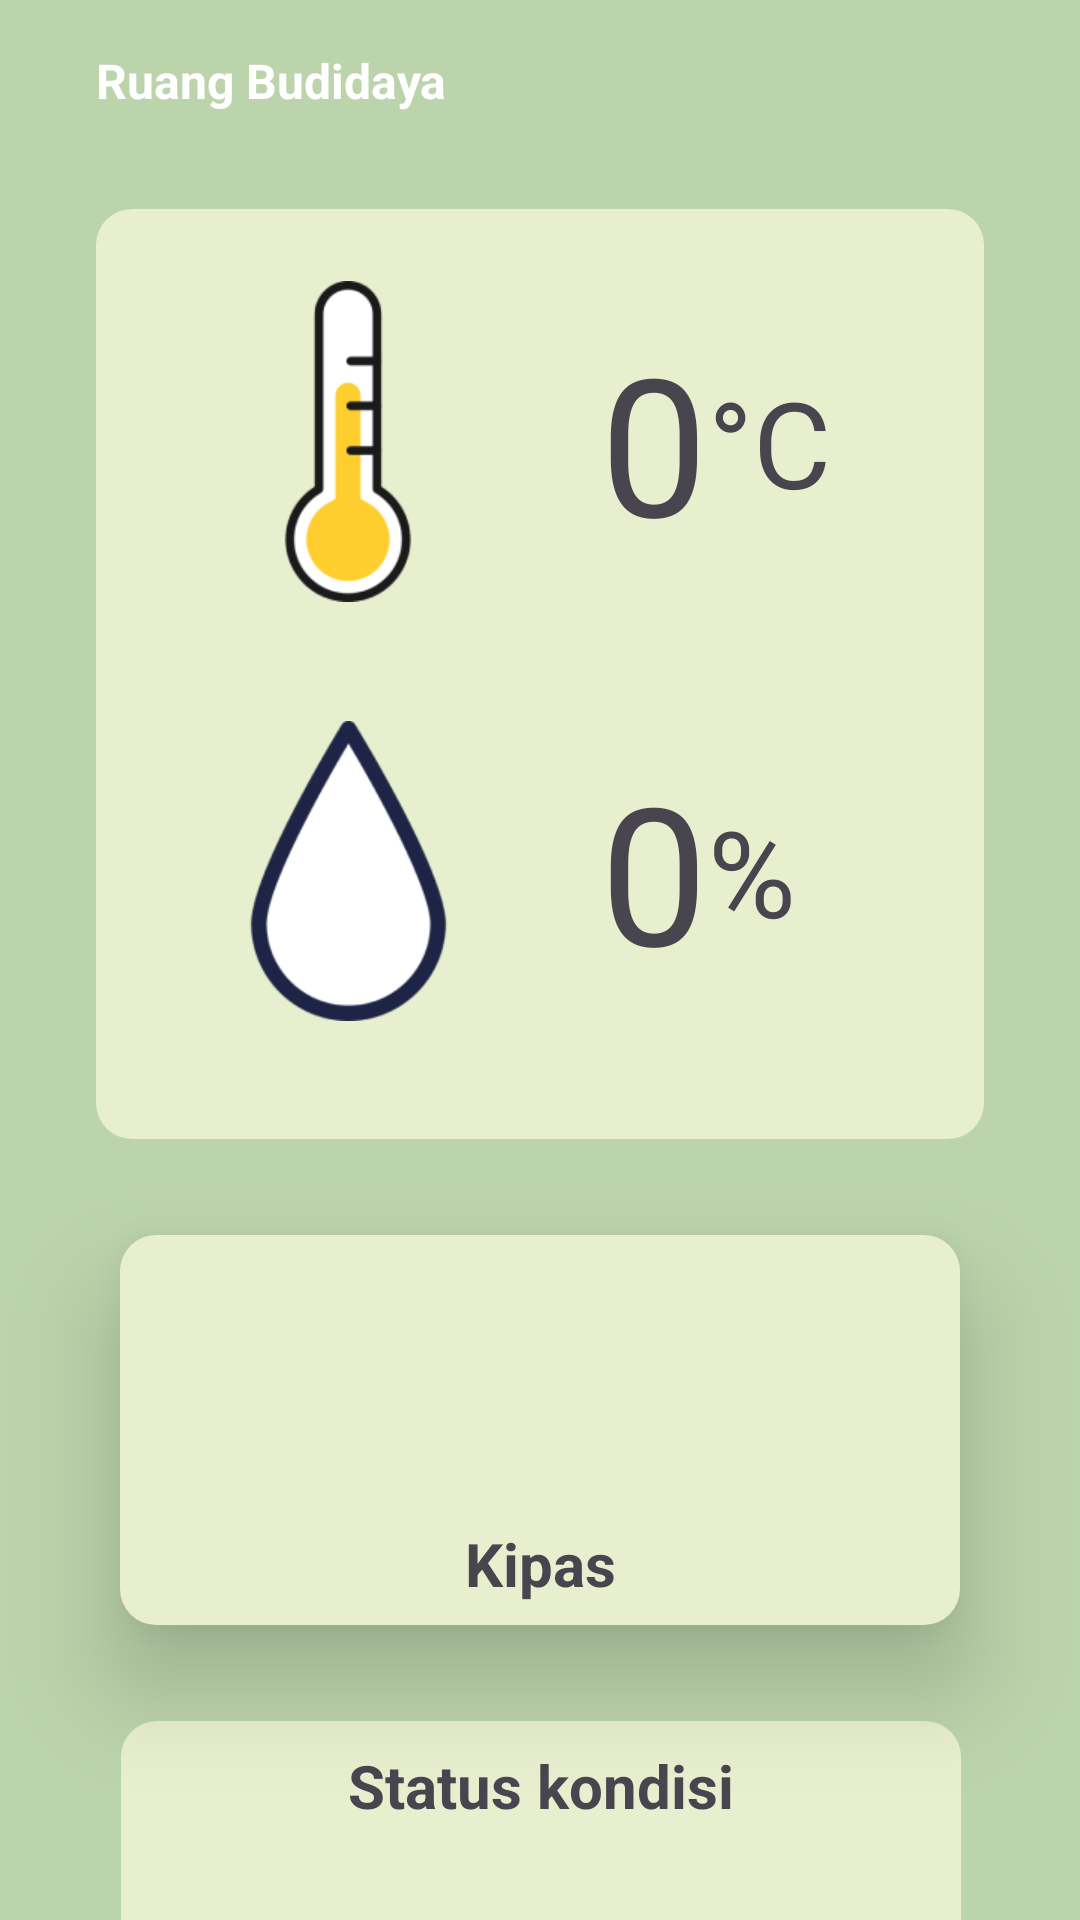

Icon bounding boxes for this 1080w x 1920h phone screenshot, format [x1,y1,x2,y2]:
humidity: [250,721,447,1021]
thermometer: [285,281,411,602]
